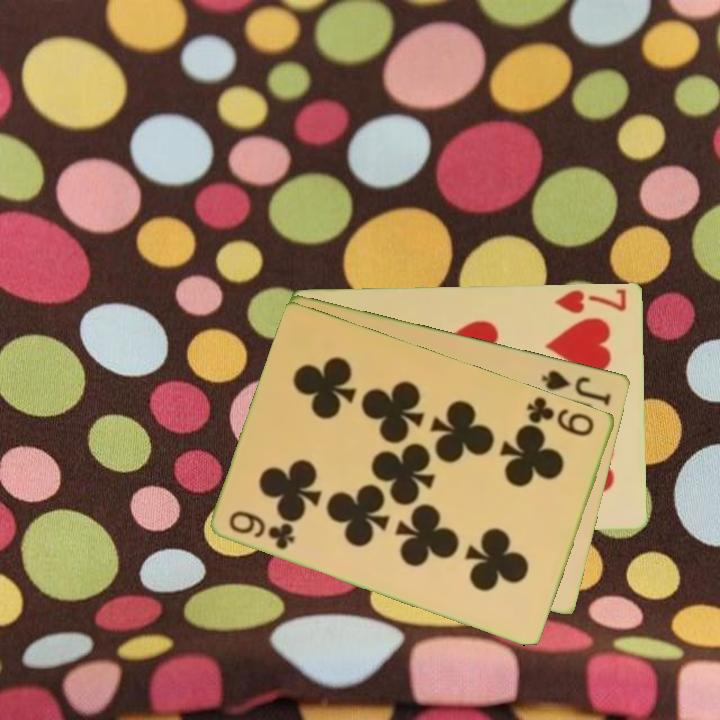7h: (551, 285, 629, 316)
9c: (523, 392, 598, 439), (226, 507, 299, 552)
Js: (538, 366, 615, 408)
